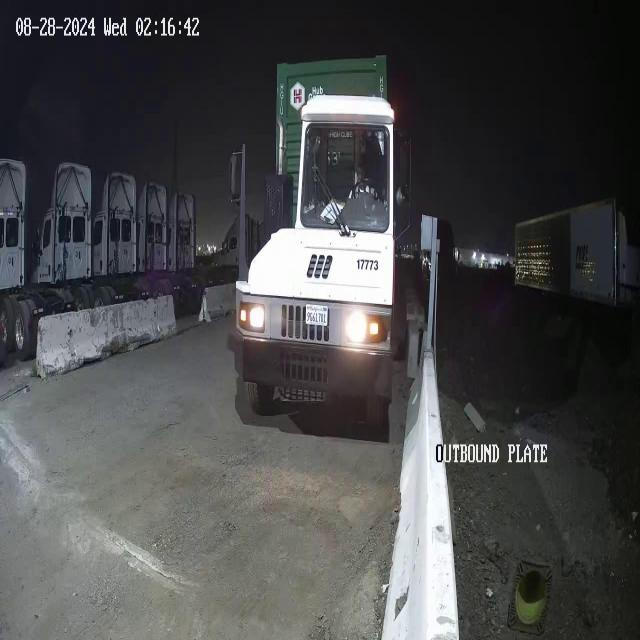CONTAINER: (272, 47, 397, 300)
